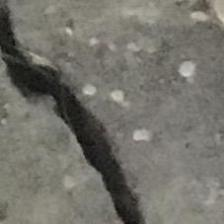Crack: (0, 2, 219, 224)
